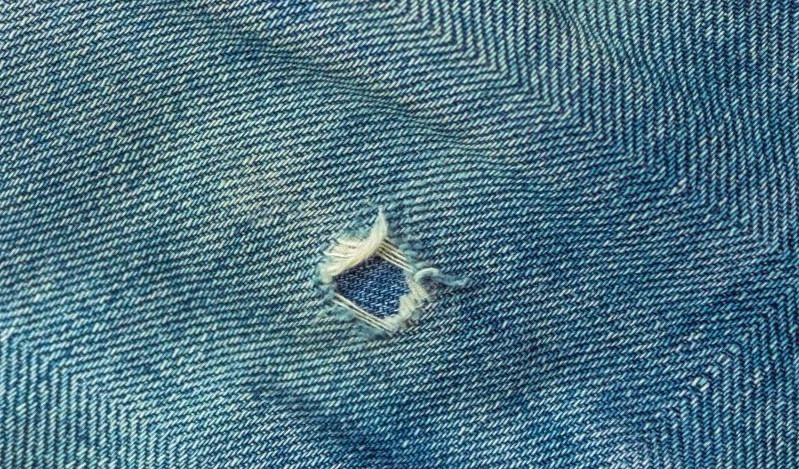hole: (315, 226, 437, 339)
